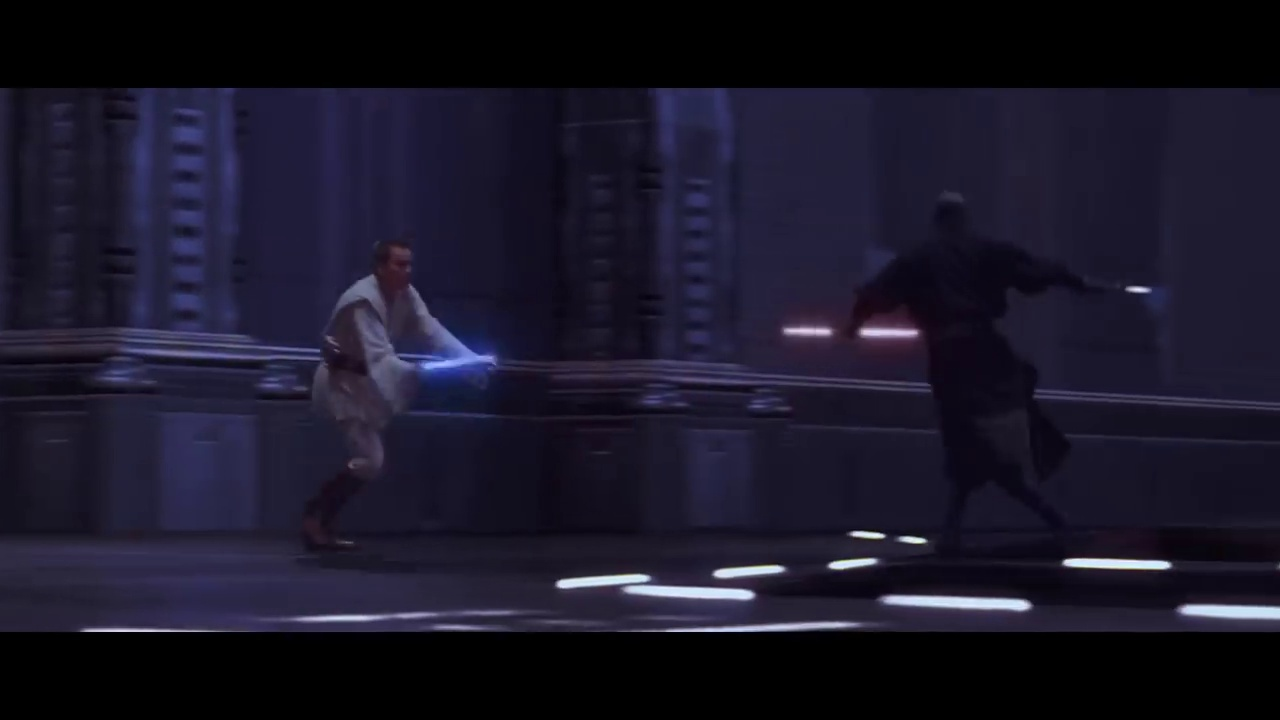lightsaber: (773, 322, 929, 338), (412, 348, 499, 376)
